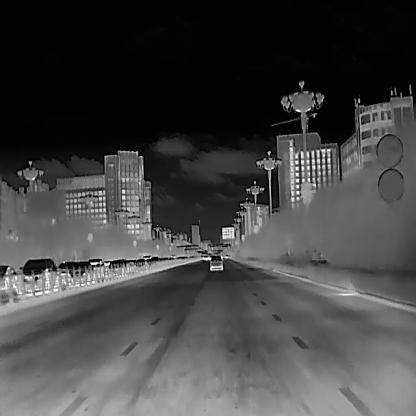car: (19, 258, 58, 294), (0, 264, 20, 299), (108, 258, 130, 278), (58, 261, 76, 285), (74, 261, 92, 284), (87, 258, 105, 280), (210, 254, 223, 270), (103, 260, 112, 277)
